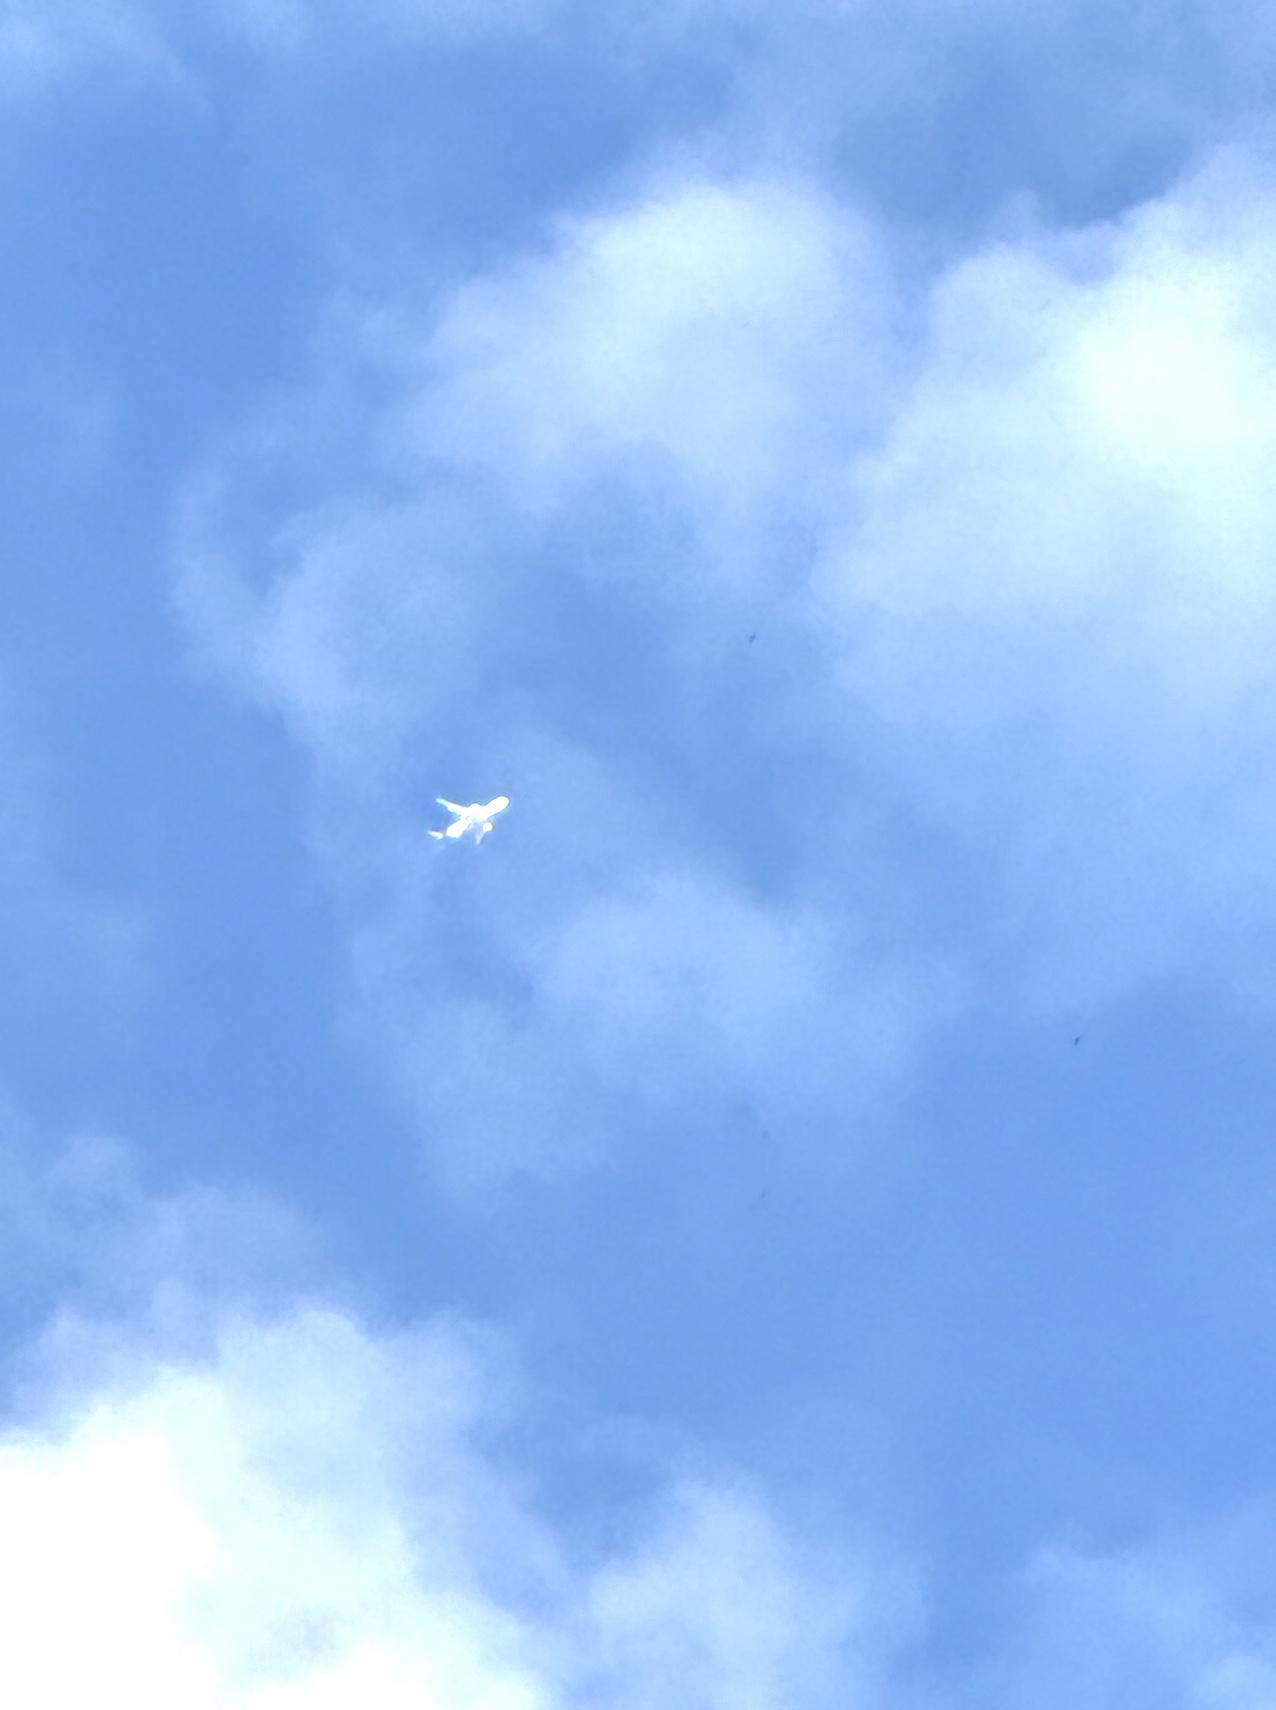Plane: (401, 748, 537, 882)
